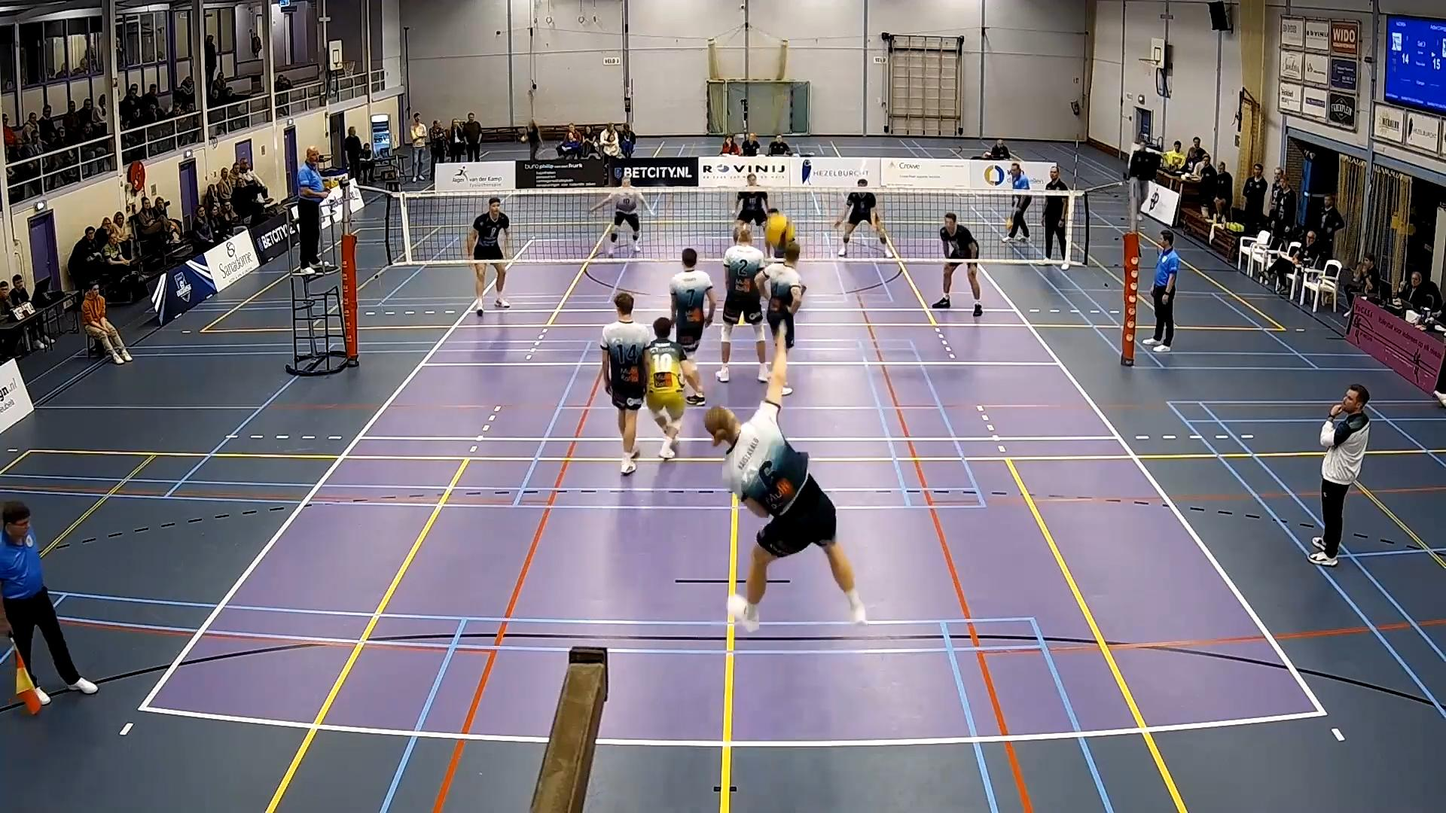battuta: (702, 317, 877, 630)
